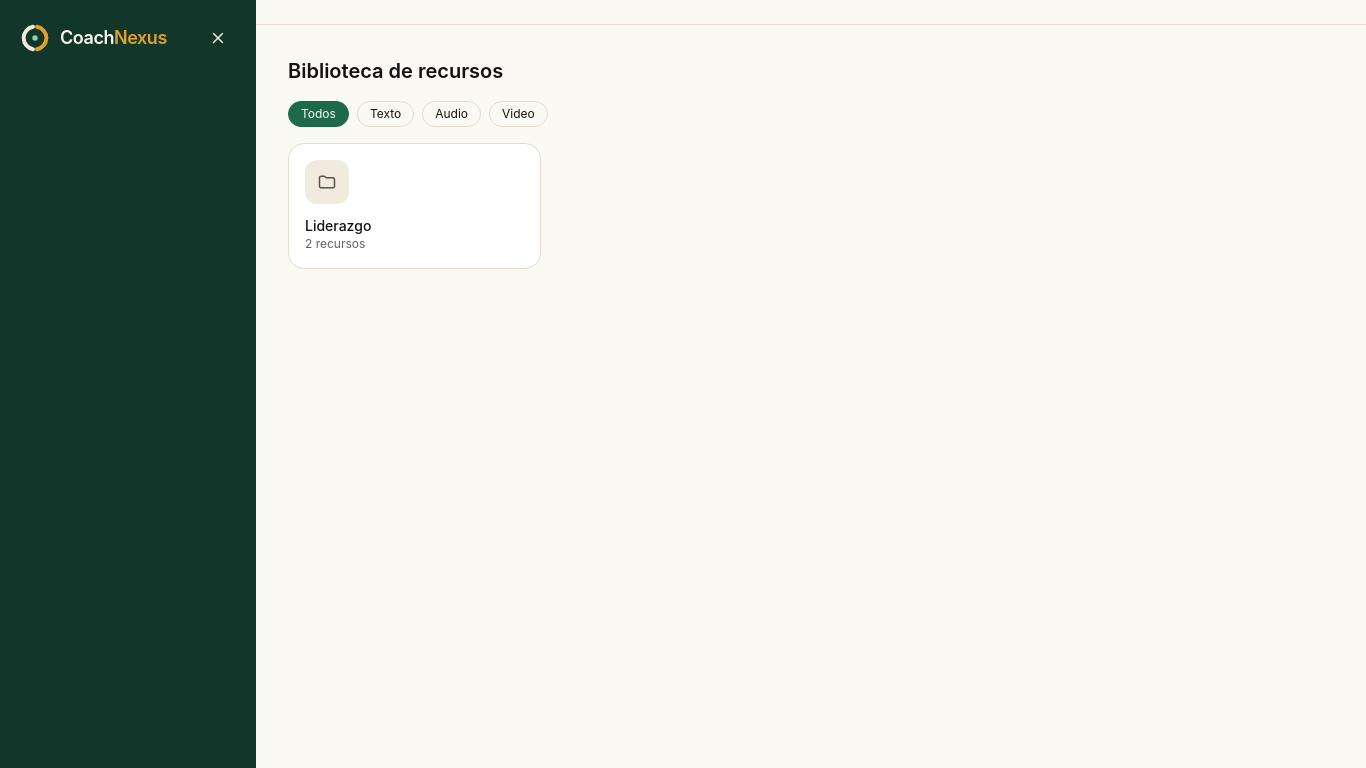
it: BibliotecaView › filters resources by categoria, independent of folder navigation
Step 1. Click the button "Liderazgo 2 recursos" → (414, 206), box x1=288 y1=143 x2=540 y2=269
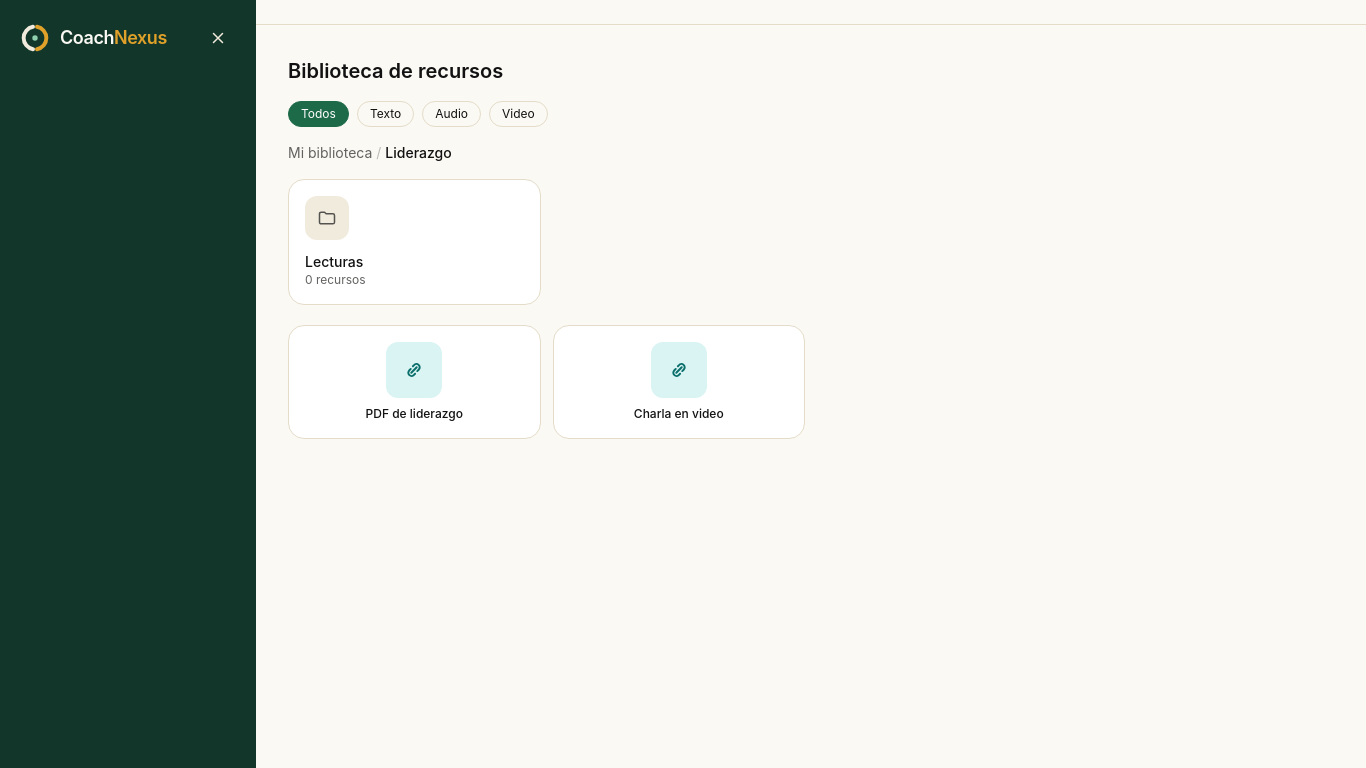
Expected: the text "PDF de liderazgo" is shown, x1=366 y1=406 x2=463 y2=422
Expected: the text "Charla en video" is shown, x1=634 y1=406 x2=724 y2=422
Step 2. Click the button "Video" → (518, 114), box x1=489 y1=101 x2=548 y2=127
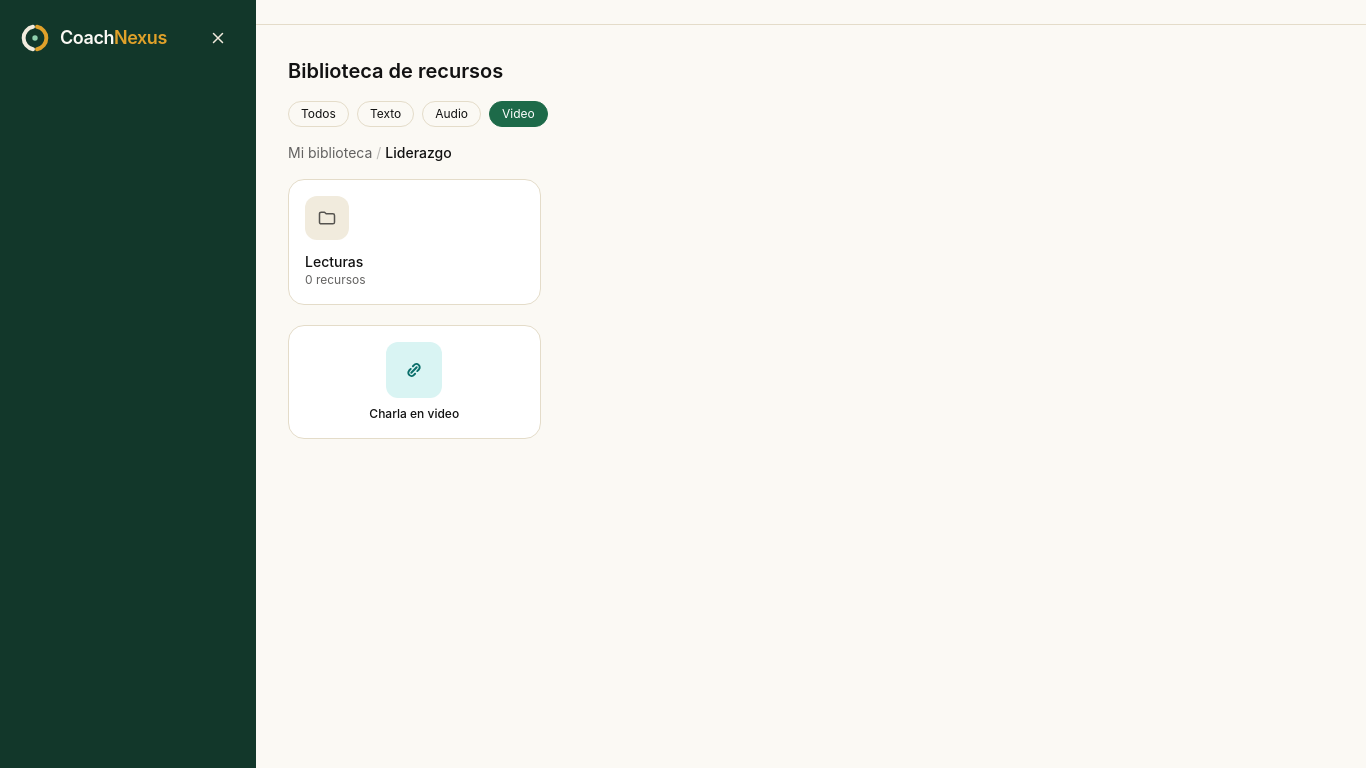
Expected: the text "Charla en video" is shown, x1=369 y1=406 x2=459 y2=422
Expected: the text "PDF de liderazgo" is gone
